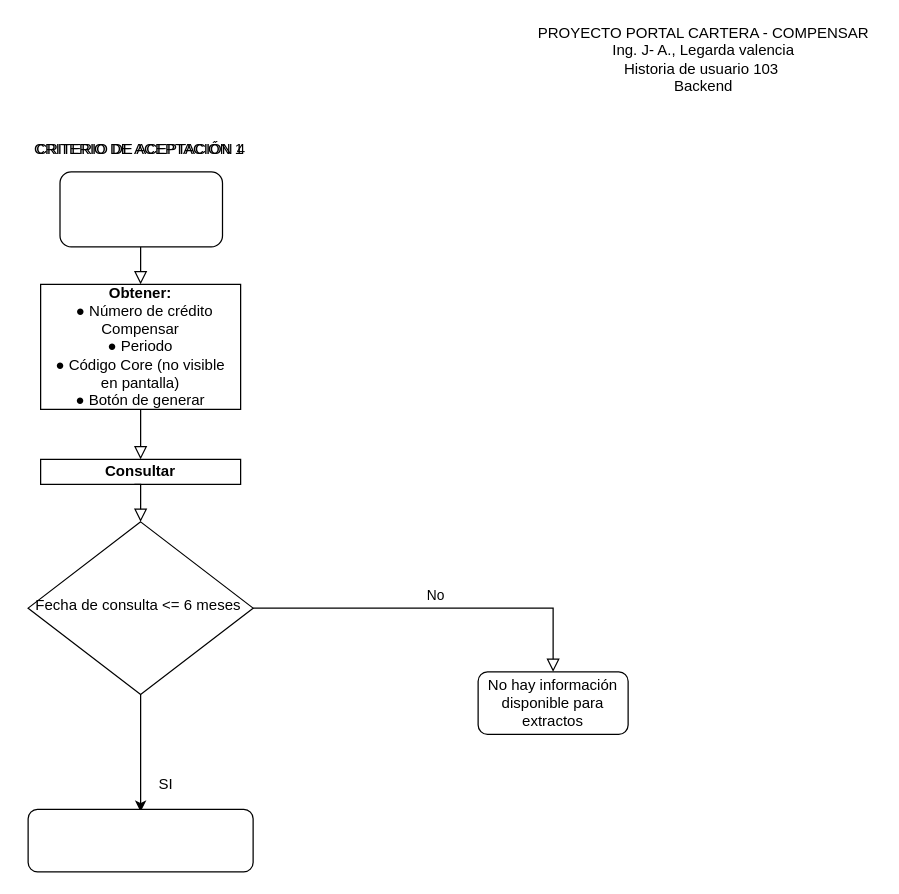
This 899x894 diagram has some shape labels left out. Each missing label, with the centre of its shape:
Generar Extracto: pixel 140 840
Identificar Sistema origen: pixel 140 209
